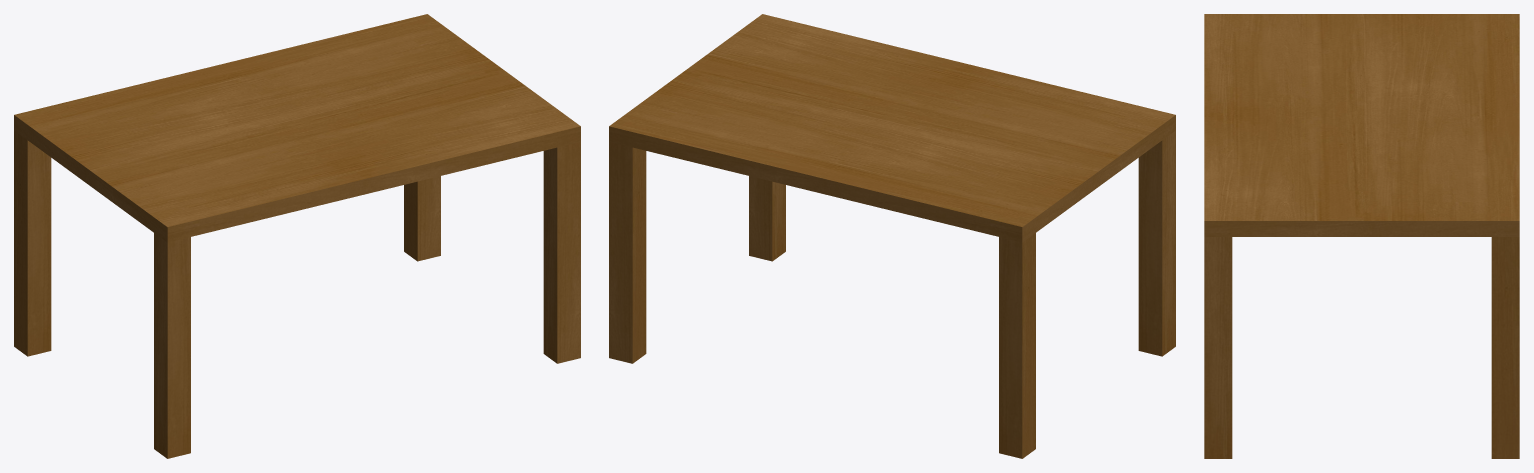
Rendered from sweethome3d-scopia-table-38.glb.
The picture shows the model from 3 angles, left to right: view 1: azimuth 30°, elevation 25°; view 2: azimuth 150°, elevation 25°; view 3: azimuth 270°, elevation 25°; orthographic projection. The views are drawn at different scales.
Parts seen in each view (by area): view 1: fusta_taula_tipical.j_fusta_taula_tipical.j_fusta_taula_tipi; view 2: fusta_taula_tipical.j_fusta_taula_tipical.j_fusta_taula_tipi; view 3: fusta_taula_tipical.j_fusta_taula_tipical.j_fusta_taula_tipi.
Part boxes in pixels (<box>): fusta_taula_tipical.j_fusta_taula_tipical.j_fusta_taula_tipi: <box>14,14,580,458</box>; fusta_taula_tipical.j_fusta_taula_tipical.j_fusta_taula_tipi: <box>609,14,1175,458</box>; fusta_taula_tipical.j_fusta_taula_tipical.j_fusta_taula_tipi: <box>1204,14,1519,458</box>.
Size of the model in its own units: 140 by 75 by 90.
1 material, 1 textured.
